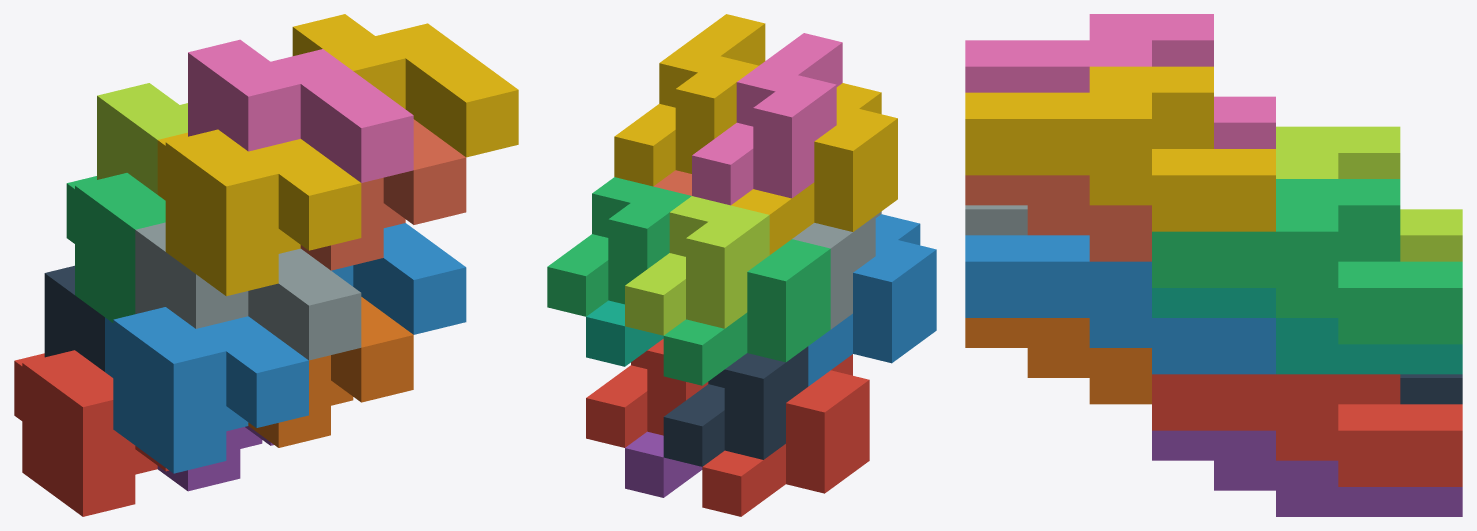
The model's file is tiling.obj.
3 renders of one model, left to right at view 1: azimuth 30°, elevation 25°; view 2: azimuth 150°, elevation 25°; view 3: azimuth 270°, elevation 25°, orthographic. The views are drawn at different scales.
Parts seen in each view (by area): view 1: copy_1_domain_4, copy_1_domain_2, copy_2_domain_4, copy_2_domain_8, copy_1_domain_1, copy_2_domain_2, copy_1_domain_3, copy_1_domain_8, copy_1_domain_6, copy_2_domain_6, copy_2_domain_3, copy_2_domain_1 (+1 smaller); view 2: copy_2_domain_4, copy_2_domain_8, copy_2_domain_3, copy_1_domain_1, copy_1_domain_3, copy_1_domain_4, copy_1_domain_2, copy_2_domain_1, copy_2_domain_7, copy_2_domain_5, copy_2_domain_2, copy_1_domain_7 (+2 smaller); view 3: copy_2_domain_8, copy_2_domain_7, copy_2_domain_5, copy_2_domain_6, copy_2_domain_4, copy_1_domain_5, copy_1_domain_7, copy_2_domain_3, copy_1_domain_8, copy_1_domain_6, copy_2_domain_1, copy_2_domain_2.
Boxes of the visible parts, x1,y1,x2,y2 form: copy_1_domain_4: (157, 129, 361, 296); copy_1_domain_2: (105, 307, 308, 473); copy_2_domain_4: (188, 39, 413, 182); copy_2_domain_8: (292, 14, 518, 157); copy_1_domain_1: (14, 350, 168, 516); copy_2_domain_2: (135, 222, 361, 360); copy_1_domain_3: (66, 173, 165, 322); copy_1_domain_8: (300, 119, 466, 270); copy_1_domain_6: (248, 297, 413, 447); copy_2_domain_6: (331, 223, 466, 334); copy_2_domain_3: (97, 83, 187, 194); copy_2_domain_1: (44, 265, 104, 371); copy_2_domain_4: (692, 33, 842, 205); copy_2_domain_8: (614, 14, 765, 186); copy_2_domain_3: (625, 196, 769, 335); copy_1_domain_1: (702, 354, 869, 516); copy_1_domain_3: (663, 239, 830, 385); copy_1_domain_4: (731, 83, 897, 254); copy_1_domain_2: (808, 214, 936, 386); copy_2_domain_1: (663, 346, 808, 466); copy_2_domain_7: (547, 177, 691, 316); copy_2_domain_5: (586, 339, 708, 447); copy_2_domain_2: (792, 211, 881, 329); copy_1_domain_7: (586, 300, 663, 366); copy_2_domain_8: (965, 66, 1275, 231); copy_2_domain_7: (1152, 179, 1462, 344); copy_2_domain_5: (1152, 374, 1462, 486); copy_2_domain_6: (965, 235, 1275, 374); copy_2_domain_4: (965, 14, 1275, 148); copy_1_domain_5: (1152, 430, 1462, 516); copy_1_domain_7: (1152, 288, 1462, 374); copy_2_domain_3: (1276, 126, 1462, 261); copy_1_domain_8: (965, 175, 1151, 261); copy_1_domain_6: (965, 318, 1151, 404); copy_2_domain_1: (1400, 374, 1462, 404); copy_2_domain_2: (965, 205, 1027, 235).
Size of the model in its own units: 6 by 8 by 8.
